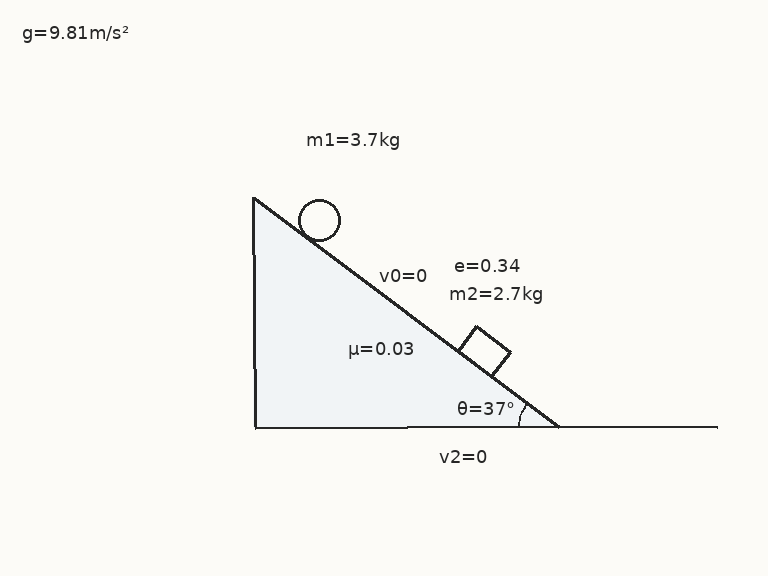ball: (296, 197, 342, 243)
block: (456, 324, 512, 378)
ramp: (252, 195, 561, 429)
